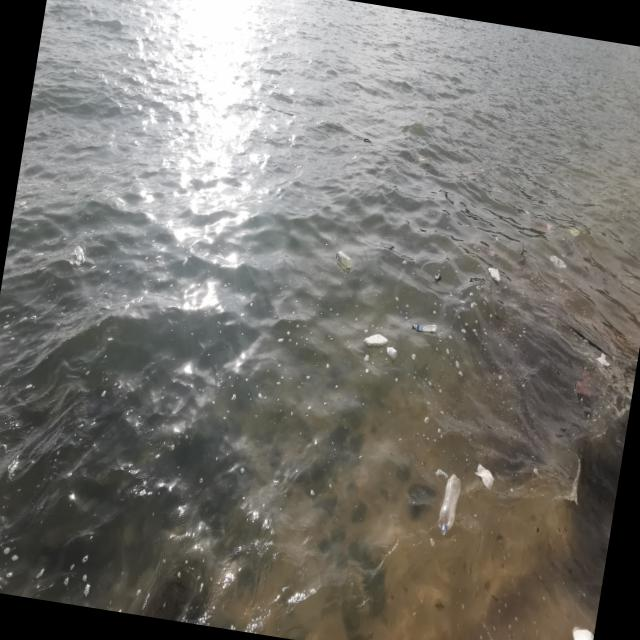can: (435, 274, 444, 283)
foam: (474, 464, 499, 493), (364, 332, 390, 352), (565, 627, 596, 640), (488, 267, 504, 283), (597, 353, 613, 369), (491, 489, 493, 493)
plastic bottle: (437, 474, 464, 538), (337, 252, 355, 270), (412, 322, 439, 334), (386, 347, 400, 361)
